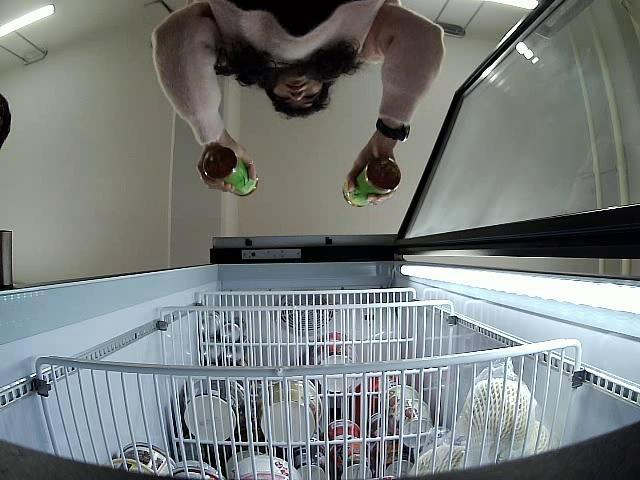19_17cha: (198, 145, 257, 198), (341, 159, 402, 206)
